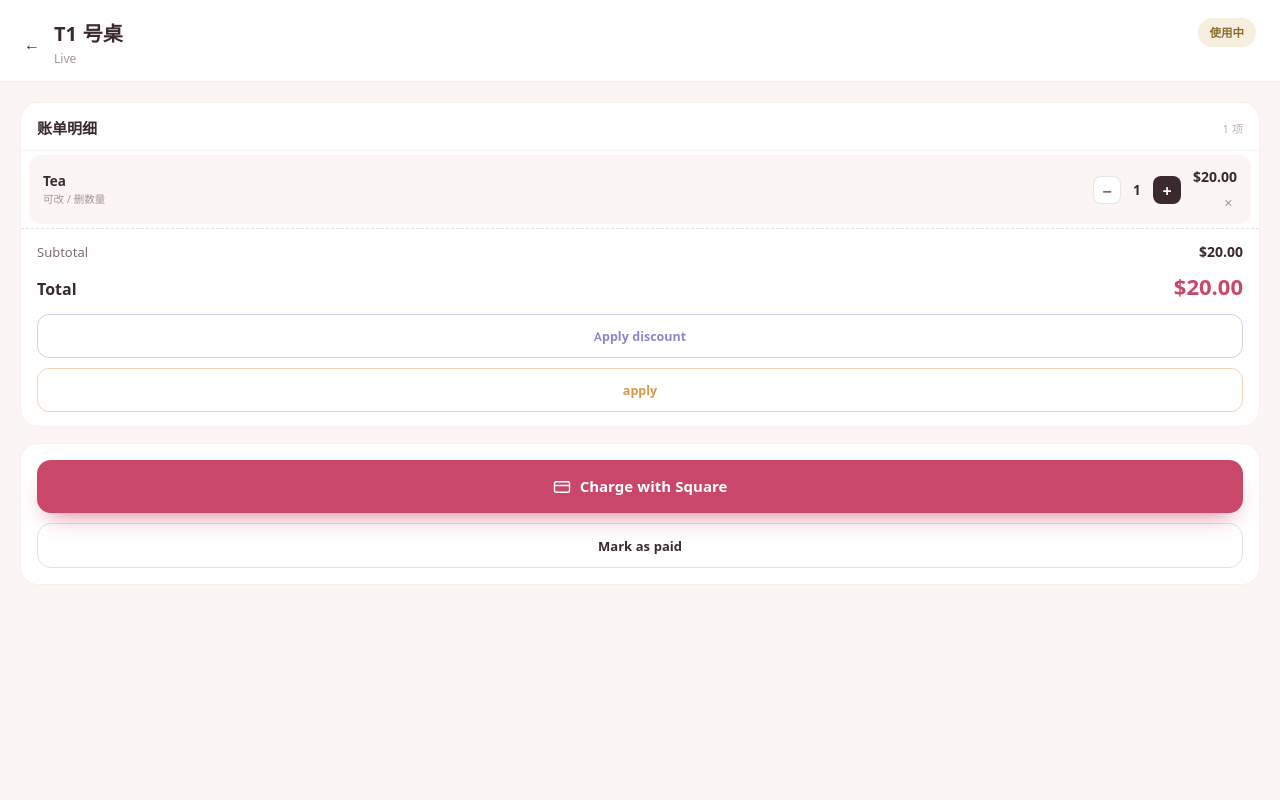
Test: TableDetail — apply discount › limits the free-text note to the backend field length and renders a counter
Click the button "Apply discount" at (640, 336), box [37,314,1243,358]
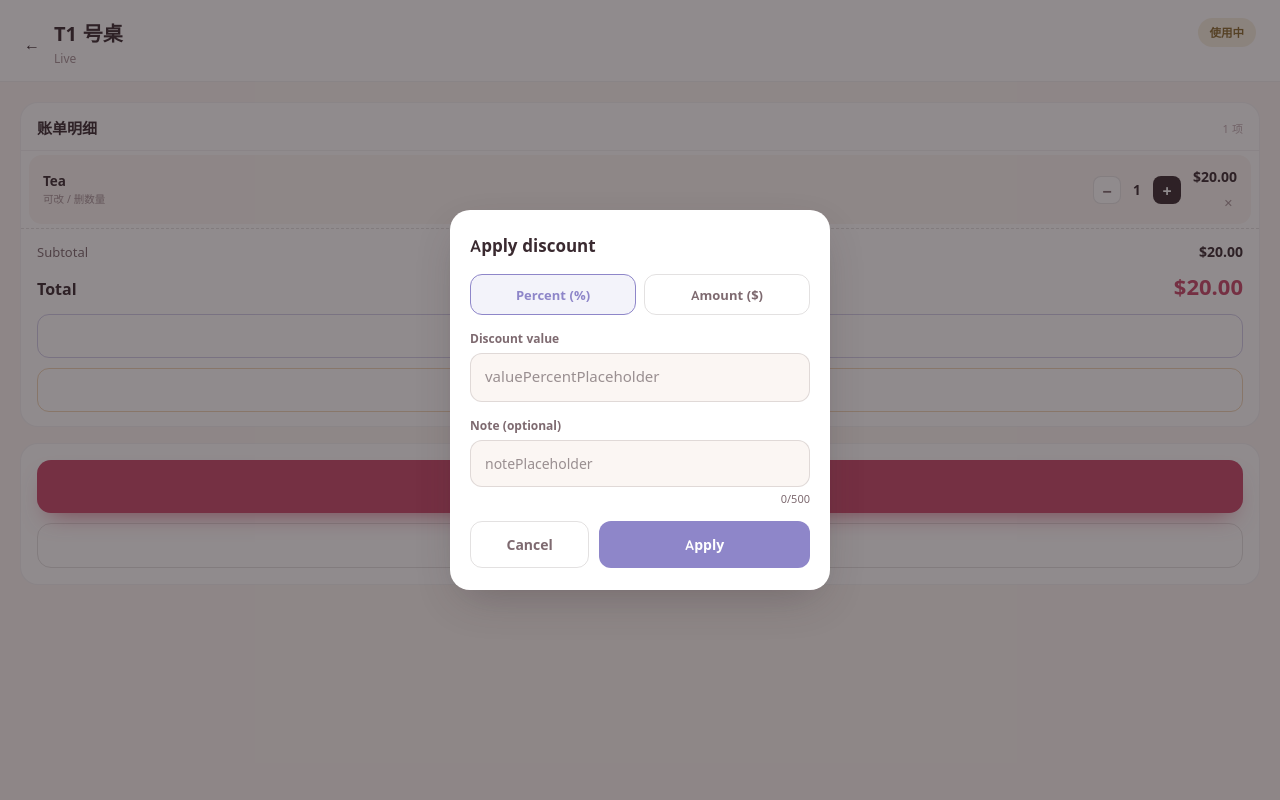
Check: the text with test id "discount-note-count" reads "0/500", box [781,492,810,506]
Type "regular" into the field labelled "Note (optional)" at (640, 463), box [470,440,810,486]
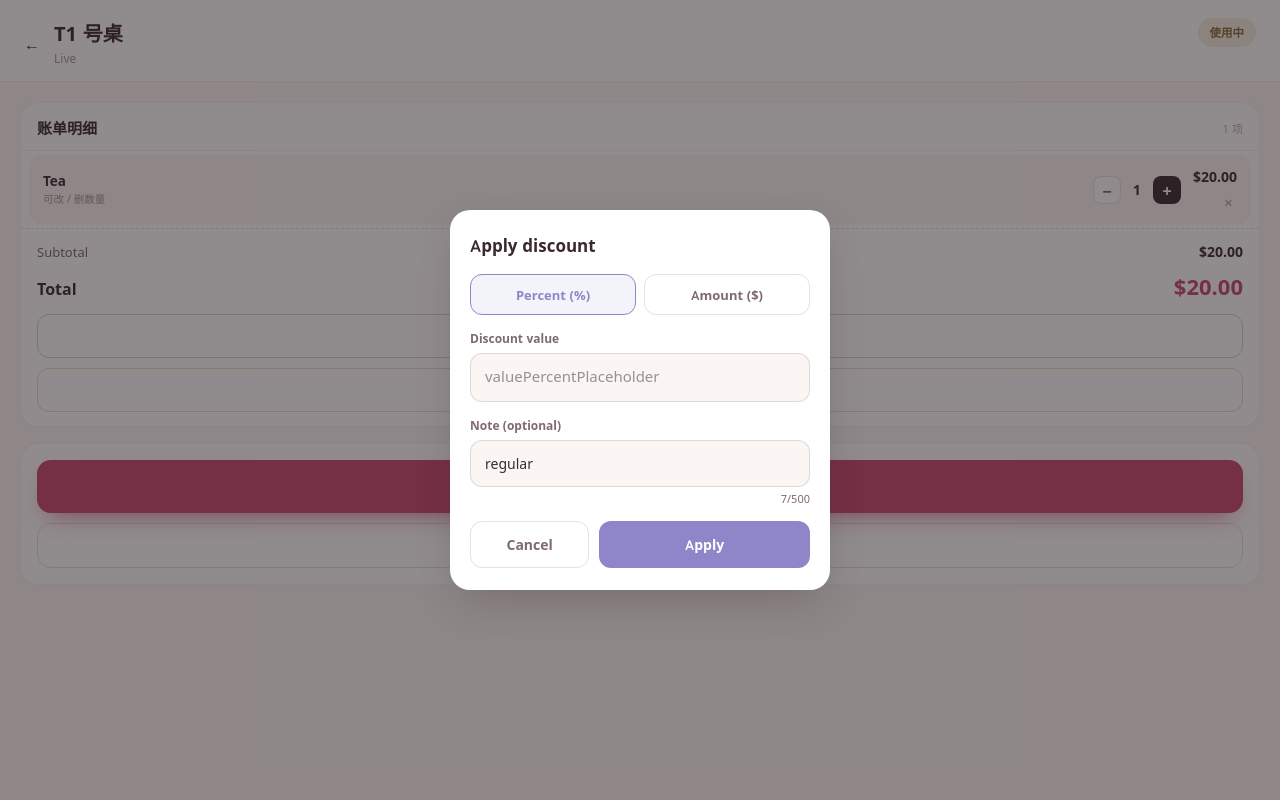
Check: the text with test id "discount-note-count" reads "7/500", box [781,492,810,506]
